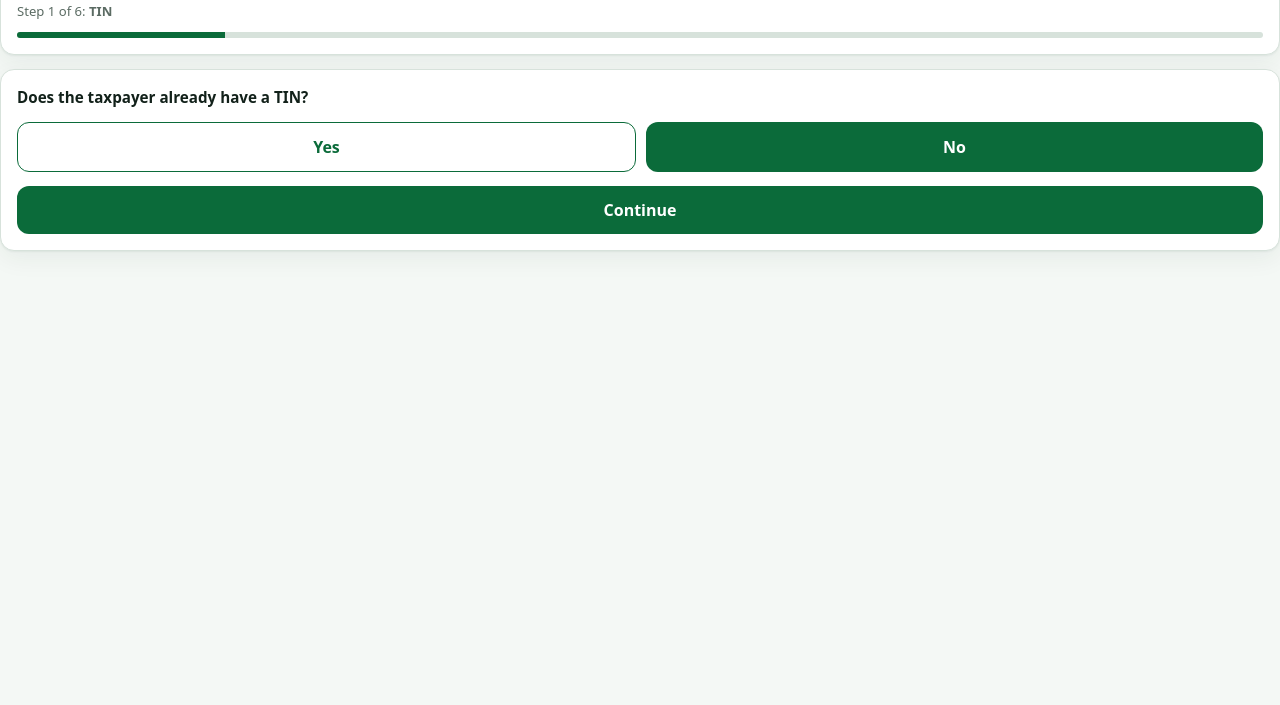
Test: what this must not have changed › still lets the agent past the step once they choose
The width and height of the screenshot is (1280, 705).
Click the button "Continue": point(640, 210) x1=17 y1=186 x2=1263 y2=234
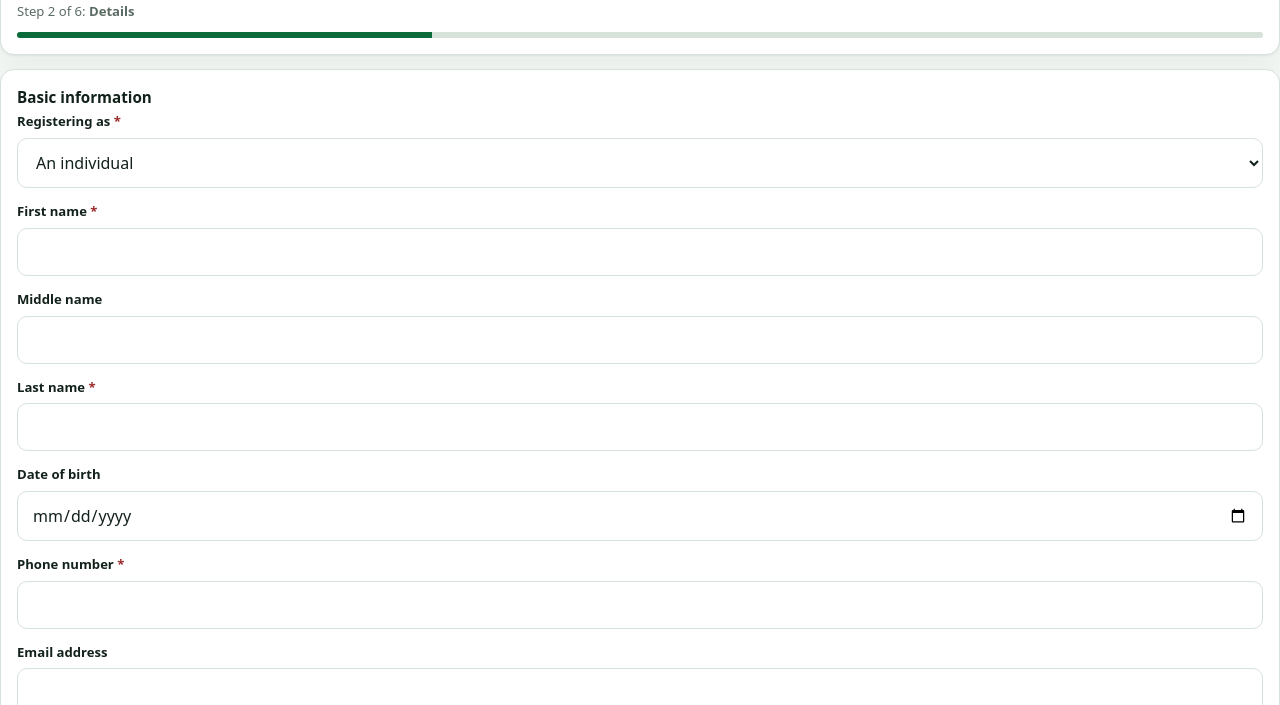
In the field labelled "First name": point(640, 252) x1=17 y1=228 x2=1263 y2=276, type "Ladi"
In the field labelled "Last name": point(640, 427) x1=17 y1=403 x2=1263 y2=451, type "Bala"
In the field labelled "Phone number": point(640, 605) x1=17 y1=581 x2=1263 y2=629, type "08030000001"
(page scrolled)
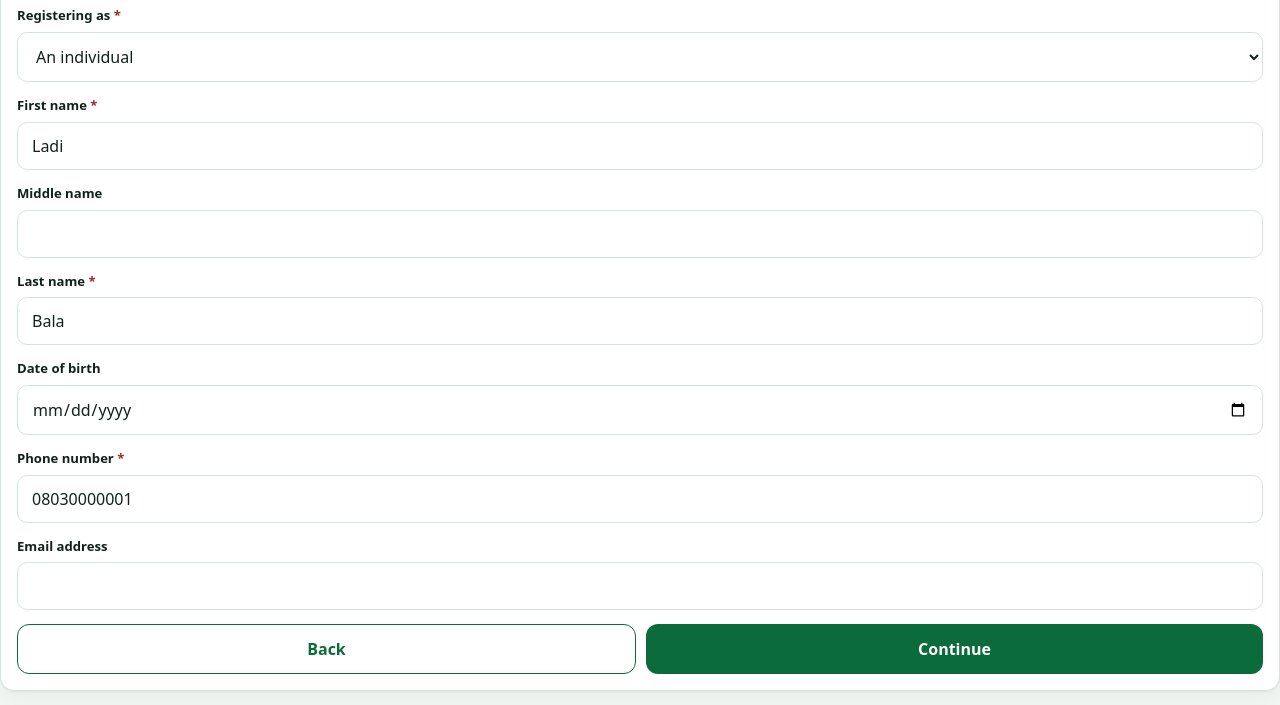
Click the button "Continue": point(954, 649) x1=646 y1=624 x2=1263 y2=674
(page scrolled)
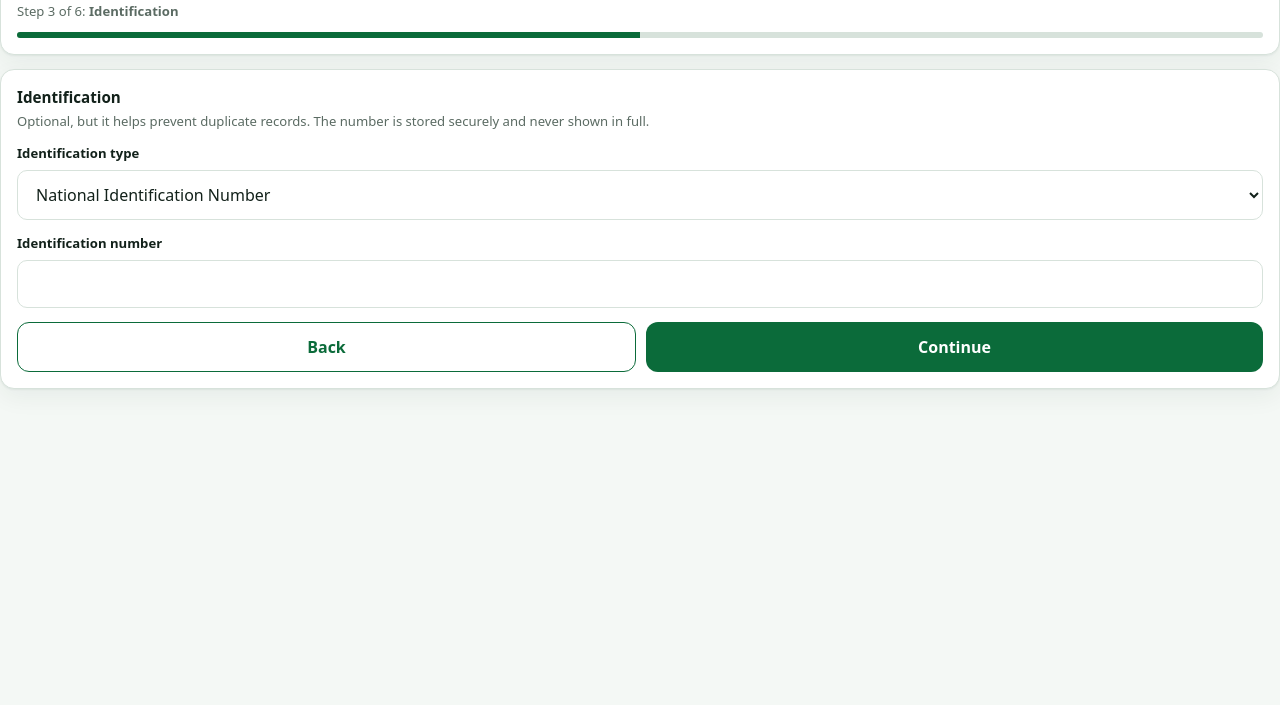
Click the button "Continue": point(954, 346) x1=646 y1=322 x2=1263 y2=372
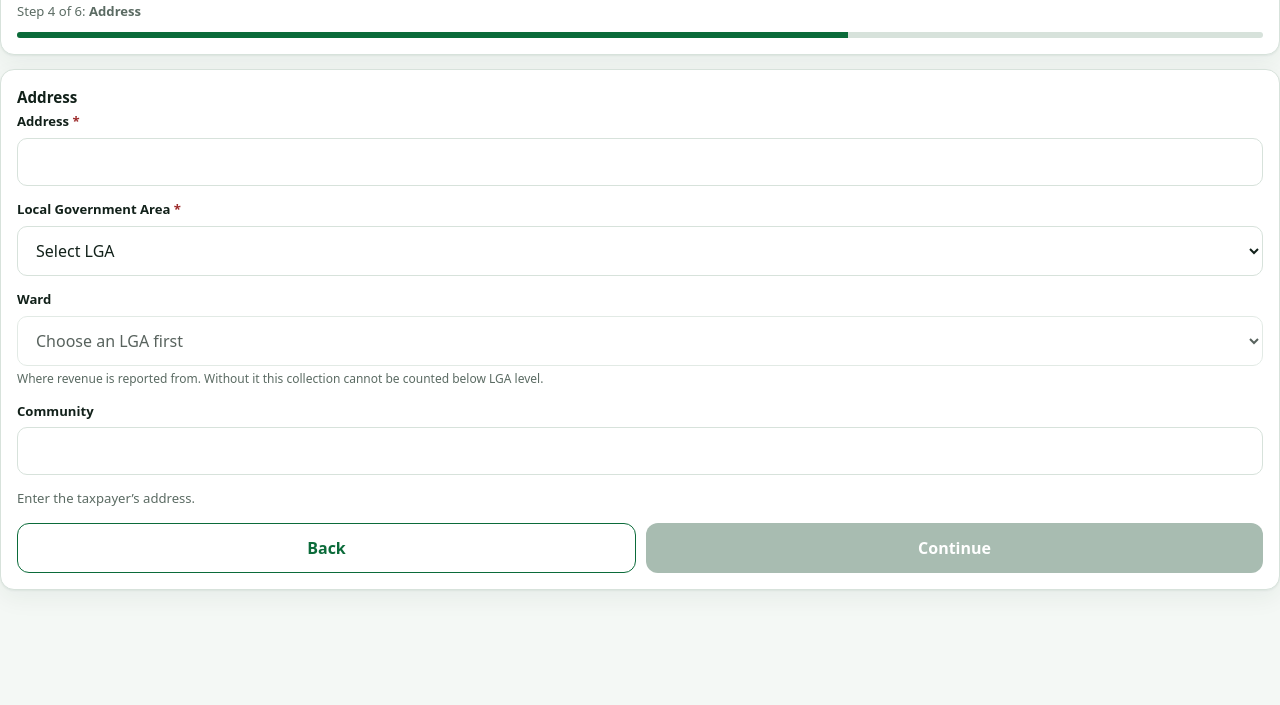
In the field labelled "Address": point(640, 162) x1=17 y1=138 x2=1263 y2=186, type "14 Rukuba Road"
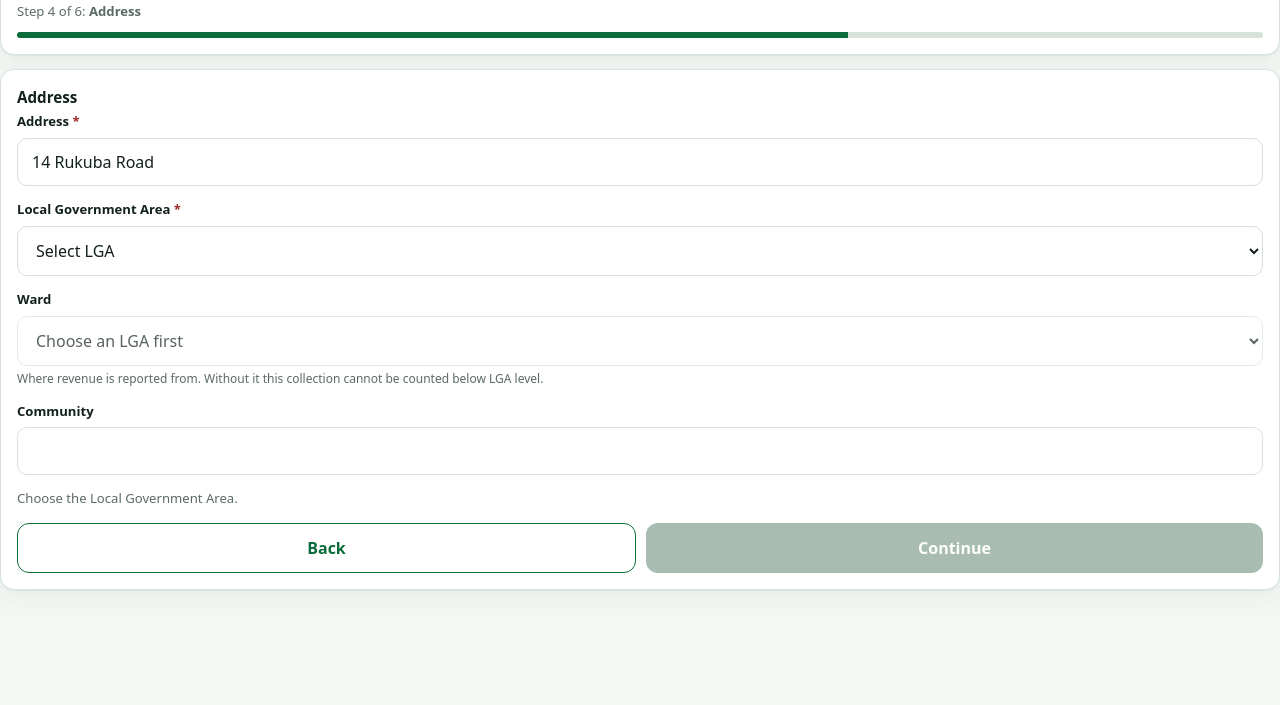
Select "Jos North" in the dropdown labelled "Local Government Area": point(640, 251) x1=17 y1=226 x2=1263 y2=276
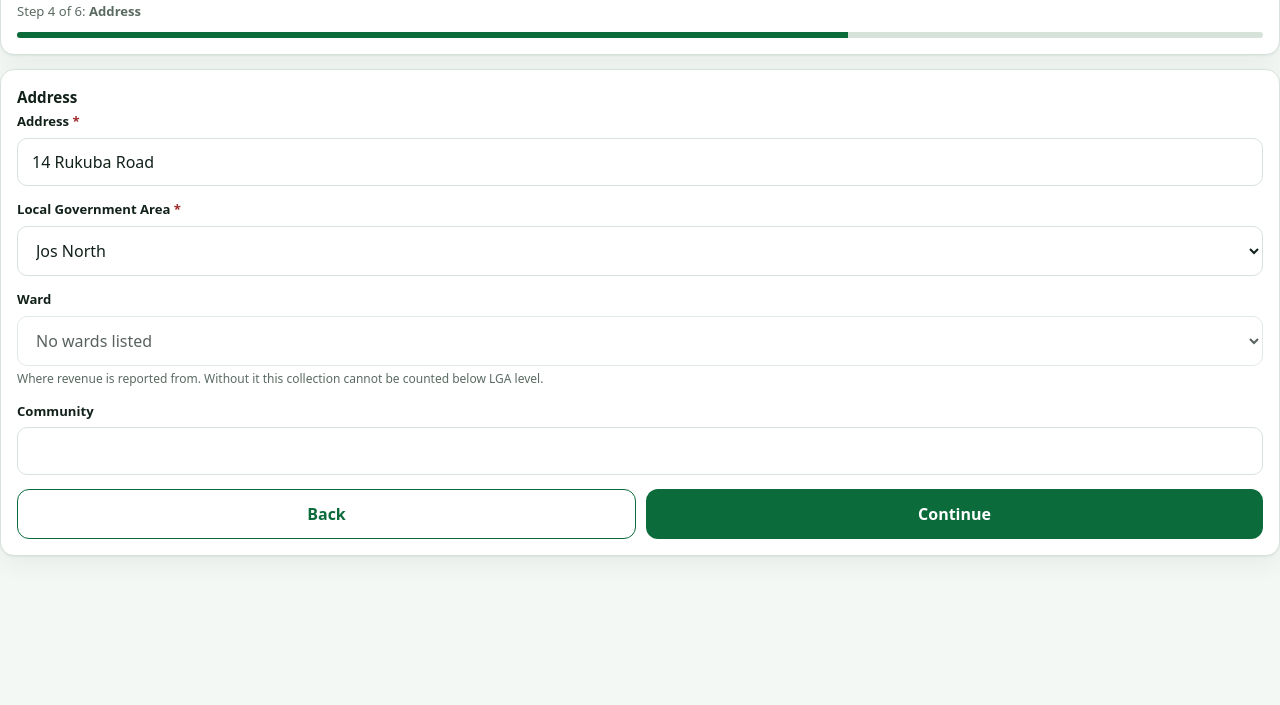
Now the text "Choose the Local Government Area." is gone
